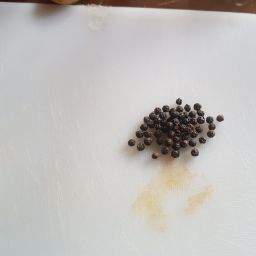Pepper corns: (117, 96, 245, 166), (143, 112, 210, 149)
